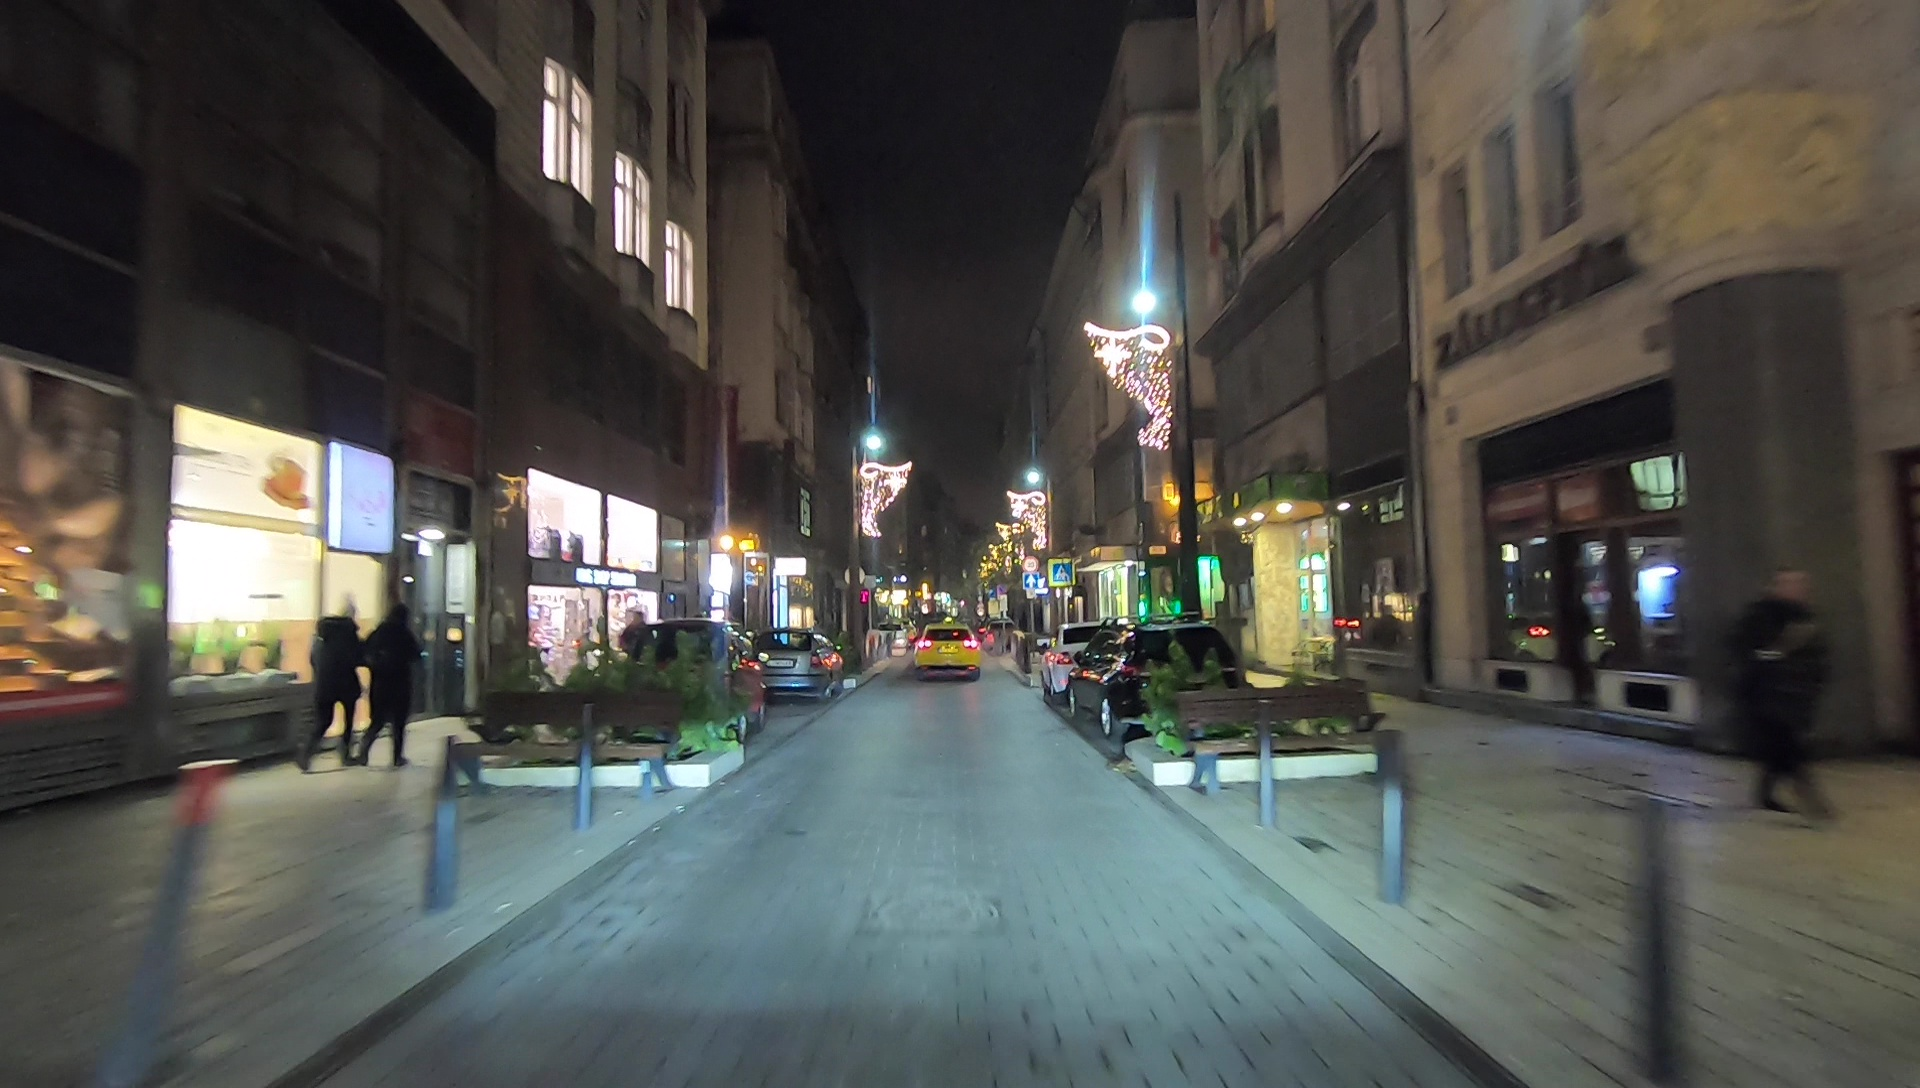person: (1726, 561, 1834, 828), (354, 602, 425, 773), (293, 606, 364, 774)
